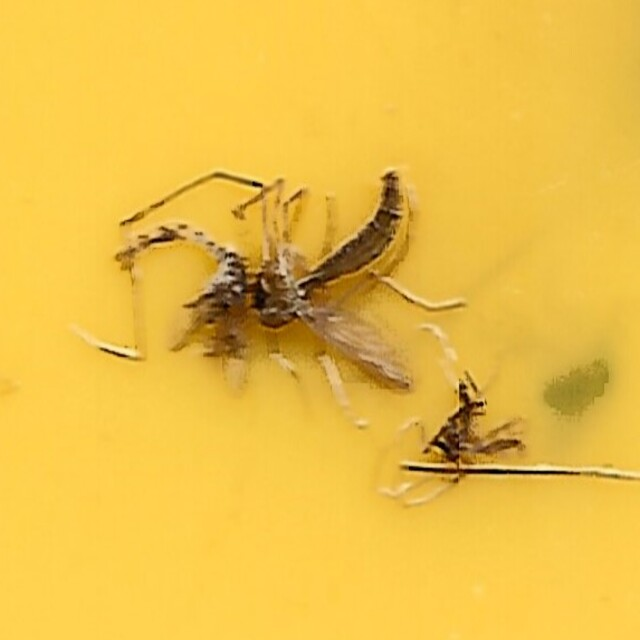Nematocera: (259, 154, 414, 398), (112, 215, 249, 352), (422, 369, 528, 486)
